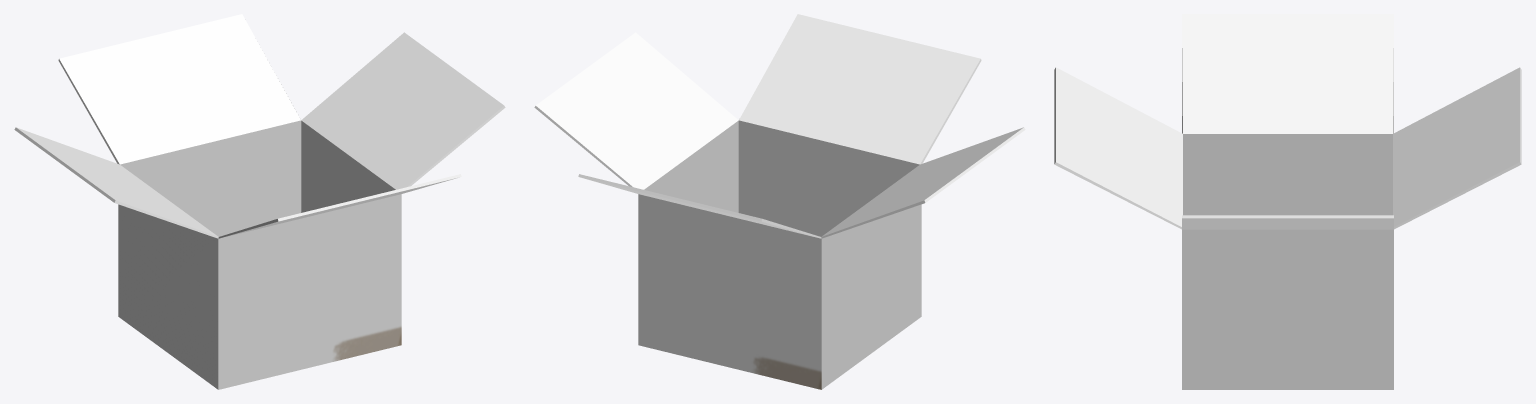
The model's file is MINICAJA_CARTON.fbx.
3 views of the same model, side by side, from view 1: azimuth 30°, elevation 25°; view 2: azimuth 150°, elevation 25°; view 3: azimuth 270°, elevation 25° (orthographic). The views are drawn at different scales.
Visible parts, largest first — view 1: MINICAJA_CARTON; view 2: MINICAJA_CARTON; view 3: MINICAJA_CARTON.
Boxes of the visible parts, box(x1,y1,x2,y2) form: MINICAJA_CARTON: box(14, 14, 505, 389); MINICAJA_CARTON: box(534, 14, 1025, 389); MINICAJA_CARTON: box(1054, 14, 1521, 389).
Size of the model in its own units: 61.86 by 32.45 by 60.29.
